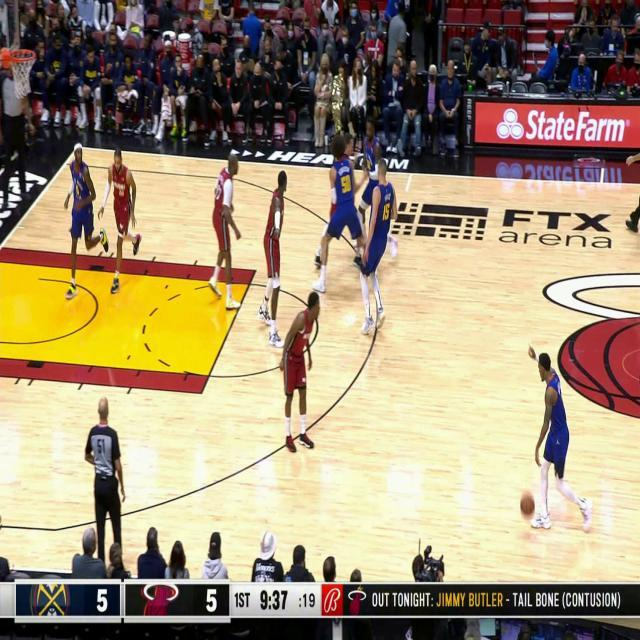rim: (521, 490, 535, 514)
